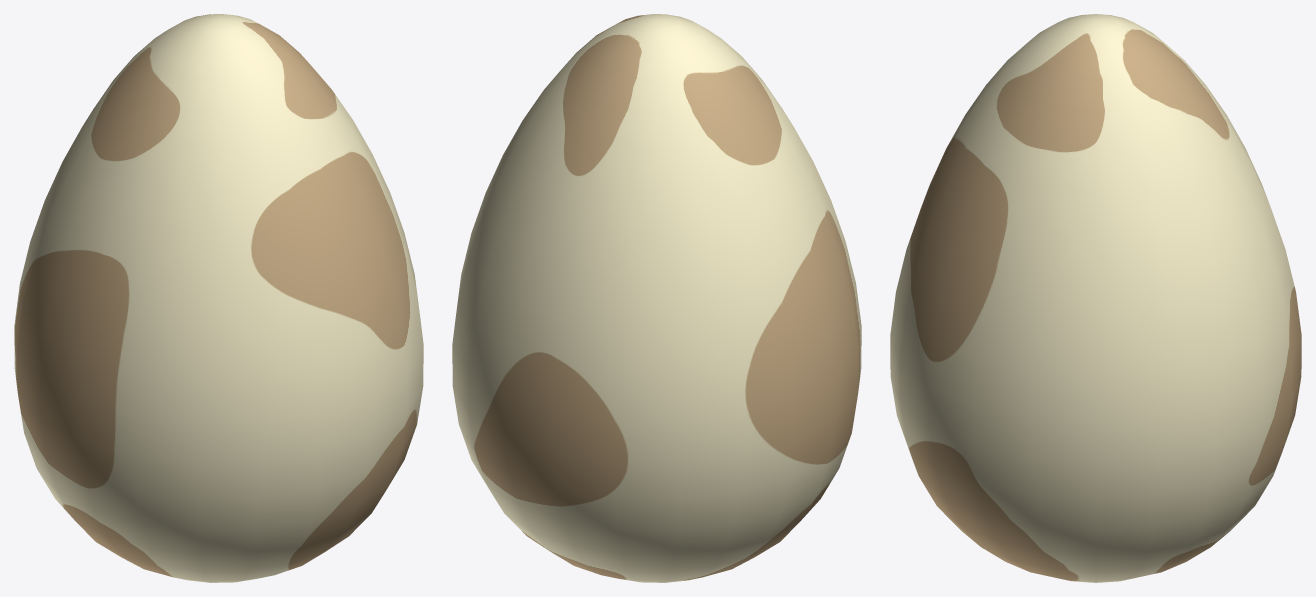
Rendered from Egg.fbx.
The picture shows the model from 3 angles, left to right: view 1: azimuth 30°, elevation 25°; view 2: azimuth 150°, elevation 25°; view 3: azimuth 270°, elevation 25°; orthographic projection.
Parts seen in each view (by area): view 1: pSphere1; view 2: pSphere1; view 3: pSphere1.
Part boxes in pixels (x1=…): pSphere1: x1=14, y1=14, x2=423, y2=582; pSphere1: x1=452, y1=14, x2=861, y2=582; pSphere1: x1=890, y1=14, x2=1301, y2=582.
Bounding box in the file's own units: 2.03 × 2.97 × 2.03.
